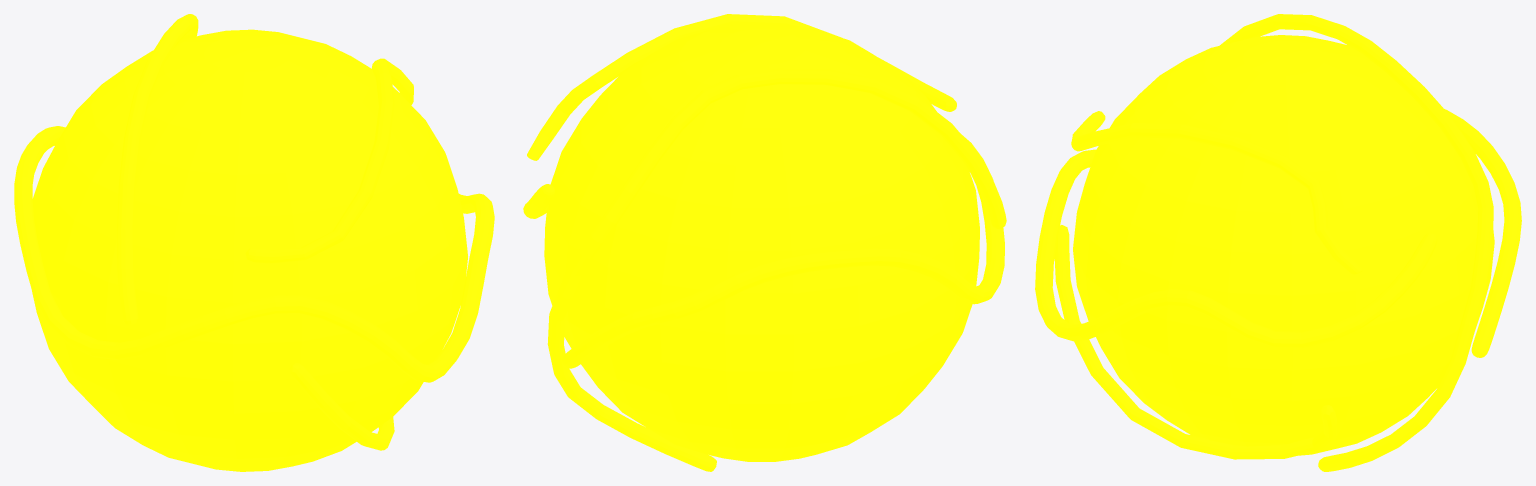
Rendered from planet_05.glb.
3 views of the same model, side by side, from view 1: azimuth 30°, elevation 25°; view 2: azimuth 150°, elevation 25°; view 3: azimuth 270°, elevation 25° (orthographic). The views are drawn at different scales.
Parts seen in each view (by area): view 1: Plane.001; view 2: Plane.001; view 3: Plane.001.
Part boxes in pixels (x1,y1,x2,y2): Plane.001: [14, 14, 494, 471]; Plane.001: [523, 14, 1006, 471]; Plane.001: [1035, 14, 1521, 471].
Size of the model in its own units: 2.54 by 2.46 by 2.65.
1 material, 1 textured.
